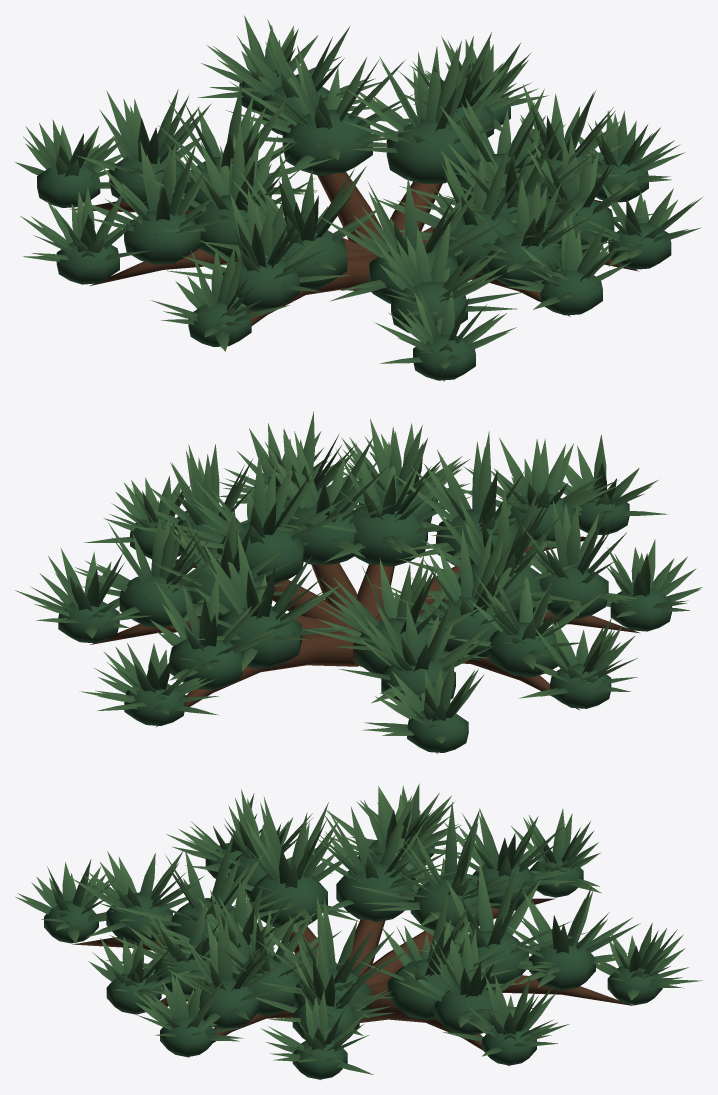
File: Mtn_Haimatsu.fbx
3 renders of one model, top to bottom at view 1: azimuth 30°, elevation 25°; view 2: azimuth 150°, elevation 25°; view 3: azimuth 270°, elevation 25°, orthographic. The views are drawn at different scales.
Visible parts, largest first — view 1: Mtn_Haimatsu; view 2: Mtn_Haimatsu; view 3: Mtn_Haimatsu.
Boxes of the visible parts, <box> form: Mtn_Haimatsu: <box>15,15,703,381</box>; Mtn_Haimatsu: <box>15,411,702,753</box>; Mtn_Haimatsu: <box>15,783,702,1079</box>.
Size of the model in its own units: 7.46 by 2.15 by 8.34.
